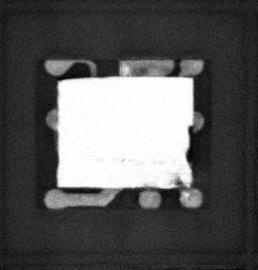DIE_BROKEN: (185, 124, 195, 170)
